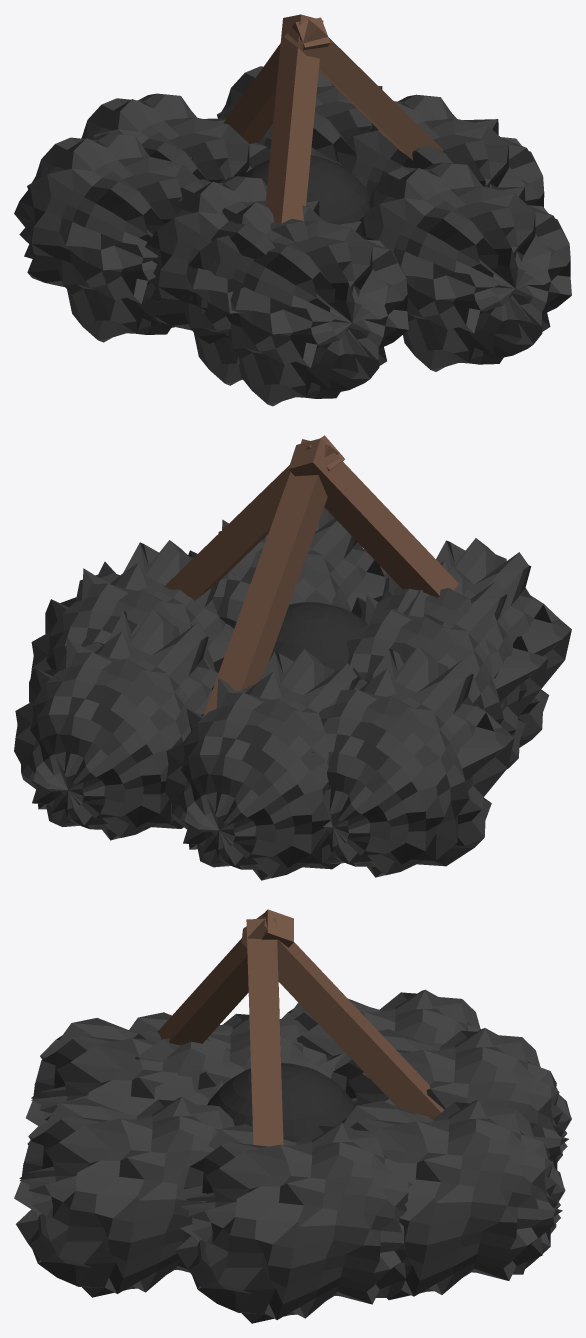
The model's file is campfire.fbx.
The picture shows the model from 3 angles, top to bottom: view 1: azimuth 30°, elevation 25°; view 2: azimuth 150°, elevation 25°; view 3: azimuth 270°, elevation 25°; orthographic projection. The views are drawn at different scales.
Visible parts, largest first — view 1: Campfire; view 2: Campfire; view 3: Campfire.
Part boxes in pixels (box(x1,y1,x2,y2)): Campfire: box(14, 14, 571, 406); Campfire: box(14, 435, 571, 880); Campfire: box(14, 909, 571, 1323).
Bounding box in the file's own units: 129 × 89.19 × 135.
